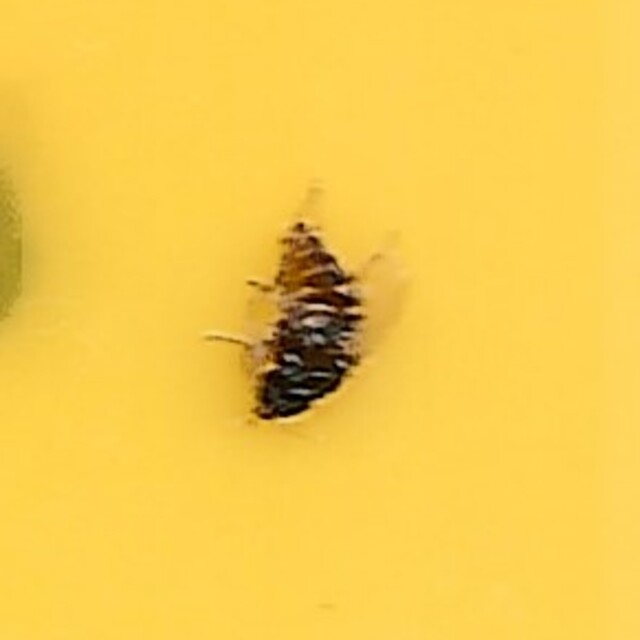Brachycera: (220, 214, 420, 426)
